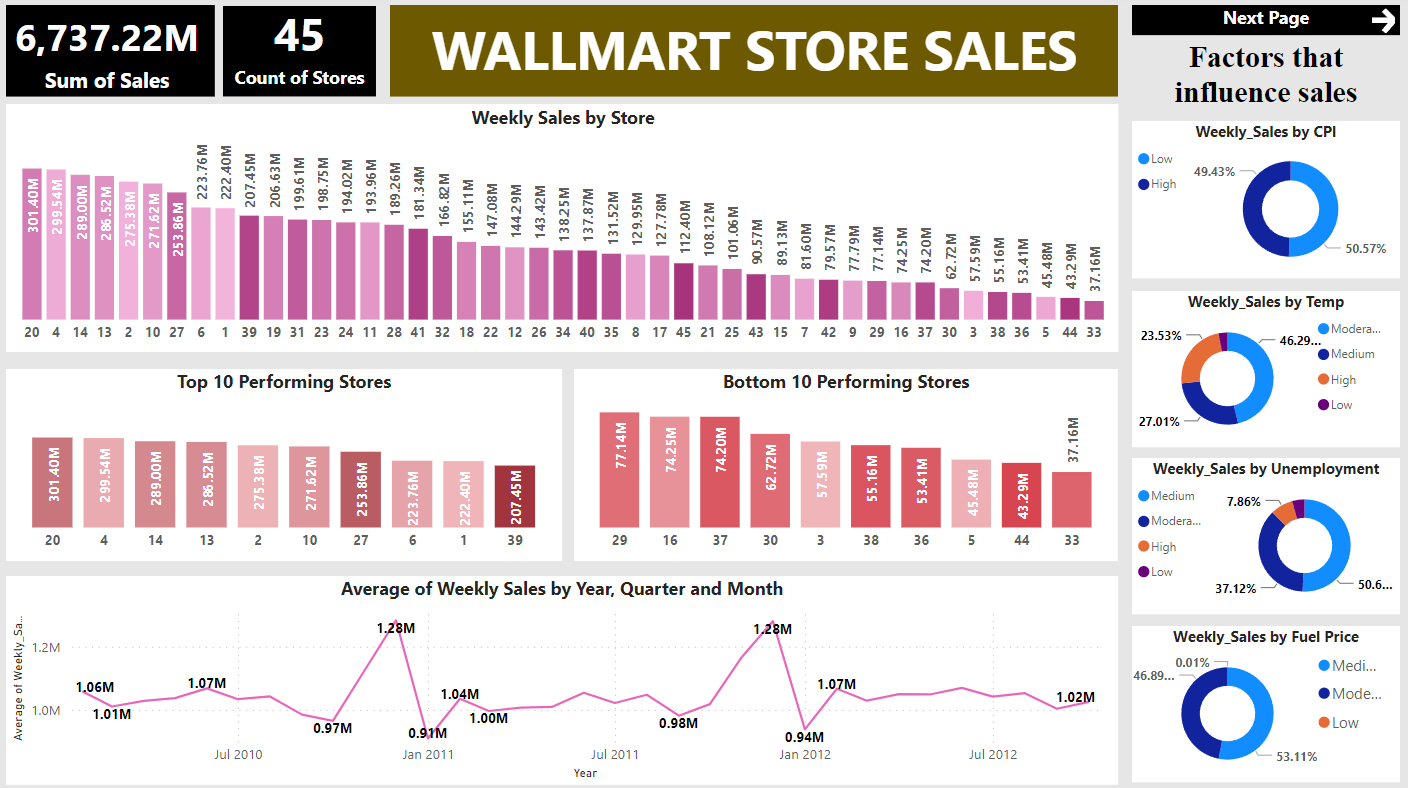

This screenshot's page, from the dashboard's own definition file:
{"tool":"powerbi","page":{"name":"Stores V/s Weekly Sales","canvas":[1280,720],"ordinal":0},"visuals":[{"type":"shape","box":[1012.8,9,266.9,146],"z":0},{"type":"shape","box":[9.9,2.7,1269.9,717.3],"z":1000},{"type":"columnChart","title":"Weekly Sales by Store","fields":{"Category":["Walmart DataSet.Store"],"Y":["Sum(Walmart DataSet.Weekly_Sales)"]},"box":[17,96.7,995.8,222.1],"z":2000},{"type":"lineChart","title":"Average of Weekly Sales by Year, Quarter and Month","fields":{"Category":["Walmart DataSet.Date.Variation.Date Hierarchy.Year","Walmart DataSet.Date.Variation.Date Hierarchy.Quarter","Walmart DataSet.Date.Variation.Date Hierarchy.Month","Walmart DataSet.Date.Variation.Date Hierarchy.Day"],"Y":["Avg(Walmart DataSet.Weekly_Sales)"]},"box":[17,519.4,995.8,187.2],"z":3000},{"type":"columnChart","title":"Top 10 Performing Stores","fields":{"Category":["Walmart DataSet.Store"],"Y":["Sum(Walmart DataSet.Weekly_Sales)"]},"box":[17,334,497.9,171.9],"z":4000},{"type":"columnChart","title":"Bottom 10 Performing Stores","fields":{"Category":["Walmart DataSet.Store"],"Y":["Sum(Walmart DataSet.Weekly_Sales)"]},"box":[525.7,334,487.2,171.9],"z":5000},{"type":"actionButton","title":"   Next Page","box":[1025.4,8.1,240,26.9],"z":6000},{"type":"shape","box":[360.9,8.1,651.9,82.4],"z":7000},{"type":"textbox","box":[369,9,636.7,81.5],"z":8000},{"type":"shape","box":[17,8.1,187.2,82.4],"z":9000},{"type":"card","fields":{"Values":["Walmart DataSet.Sum of Sales"]},"box":[17,8.1,180.9,82.4],"z":10000},{"type":"shape","box":[211.3,9,137,81.5],"z":11000},{"type":"card","fields":{"Values":["Walmart DataSet.Count of Stores"]},"box":[211.3,2.7,137,82.4],"z":12000},{"type":"actionButton","box":[1234.9,7.2,30.4,30.4],"z":13000},{"type":"donutChart","title":"Weekly_Sales by Temp","fields":{"Category":["Walmart DataSet.Temperature_Category"],"Y":["Sum(Walmart DataSet.Weekly_Sales)"]},"box":[1025.4,264.2,240,139.7],"z":14000},{"type":"textbox","box":[1025.4,34.9,240,112.8],"z":15000},{"type":"donutChart","title":"Weekly_Sales by CPI","fields":{"Y":["Sum(Walmart DataSet.Weekly_Sales)"],"Category":["Walmart DataSet.CPI_Category"]},"box":[1025.4,111.9,240,140.6],"z":16000},{"type":"donutChart","title":"Weekly_Sales by Unemployment","fields":{"Y":["Sum(Walmart DataSet.Weekly_Sales)"],"Category":["Walmart DataSet.Unemp_Category"]},"box":[1025.4,413.7,240,139.7],"z":17000},{"type":"donutChart","title":"Weekly_Sales by Fuel Price","fields":{"Y":["Sum(Walmart DataSet.Weekly_Sales)"],"Category":["Walmart DataSet.Fuel_Price_Category"]},"box":[1025.4,564.2,240,139.7],"z":18000}]}

Visuals, with their boxes in screenshot pixels (x1, y1, x2, y2), scaled from the page's 1280x720 canvas onto the 1408x788 screenshot:
shape: rect(1114, 10, 1407, 170)
shape: rect(11, 3, 1407, 787)
"Weekly Sales by Store" columnChart: rect(19, 106, 1114, 349)
"Average of Weekly Sales by Year, Quarter and Month" lineChart: rect(19, 568, 1114, 773)
"Top 10 Performing Stores" columnChart: rect(19, 366, 566, 554)
"Bottom 10 Performing Stores" columnChart: rect(578, 366, 1114, 554)
"   Next Page" actionButton: rect(1128, 9, 1392, 38)
shape: rect(397, 9, 1114, 99)
textbox: rect(406, 10, 1106, 99)
shape: rect(19, 9, 225, 99)
card - Walmart DataSet.Sum of Sales: rect(19, 9, 218, 99)
shape: rect(232, 10, 383, 99)
card - Walmart DataSet.Count of Stores: rect(232, 3, 383, 93)
actionButton: rect(1358, 8, 1392, 41)
"Weekly_Sales by Temp" donutChart: rect(1128, 289, 1392, 442)
textbox: rect(1128, 38, 1392, 162)
"Weekly_Sales by CPI" donutChart: rect(1128, 122, 1392, 276)
"Weekly_Sales by Unemployment" donutChart: rect(1128, 453, 1392, 606)
"Weekly_Sales by Fuel Price" donutChart: rect(1128, 617, 1392, 770)
